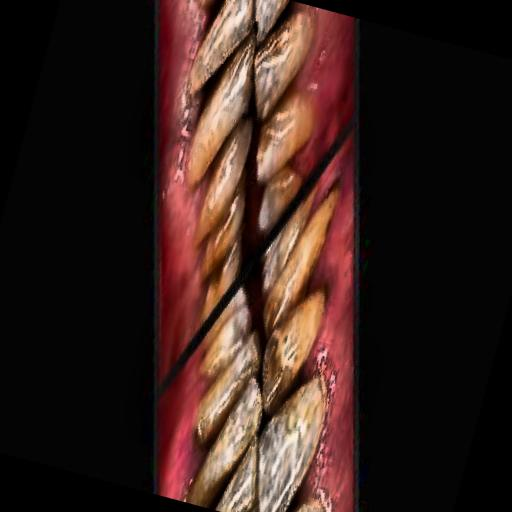Calculus: (96, 22, 398, 435)
